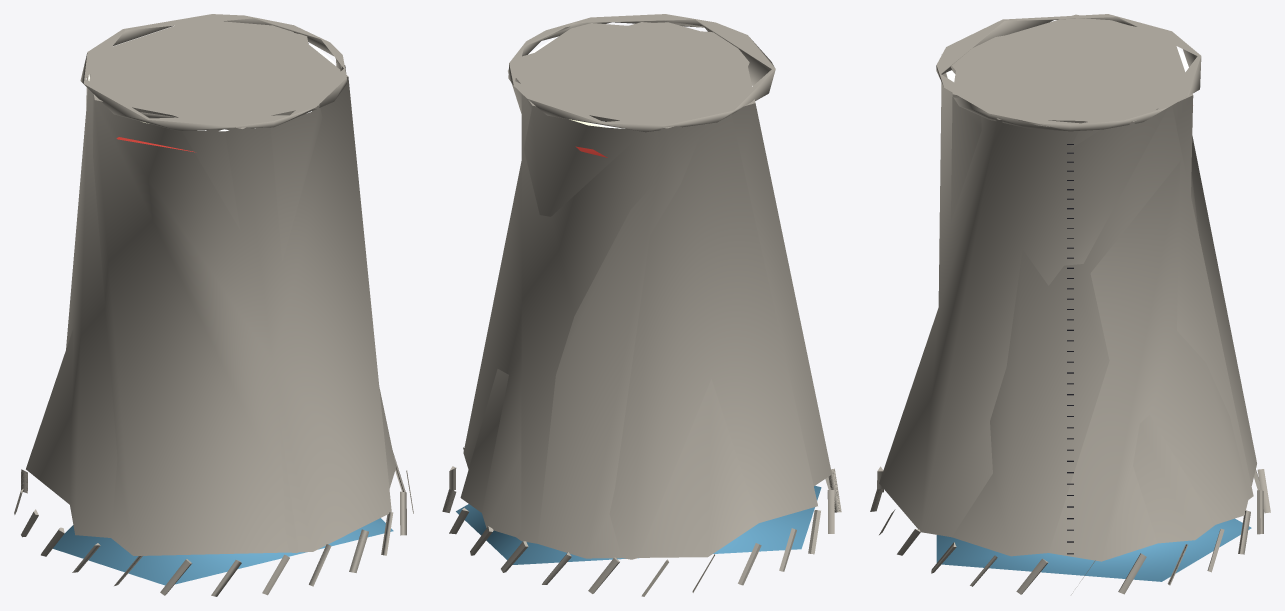
Rendered from cooling_tower.glb.
3 views of the same model, side by side, from view 1: azimuth 30°, elevation 25°; view 2: azimuth 150°, elevation 25°; view 3: azimuth 270°, elevation 25° (orthographic).
Visible parts, largest first — view 1: cooling_tower; view 2: cooling_tower; view 3: cooling_tower.
Boxes of the visible parts, bbox=[...] form: cooling_tower: bbox=[14, 14, 413, 596]; cooling_tower: bbox=[442, 14, 841, 596]; cooling_tower: bbox=[870, 14, 1270, 594].
Bounding box in the file's own units: 46.05 × 56.39 × 46.05.
1 material, 1 textured.
